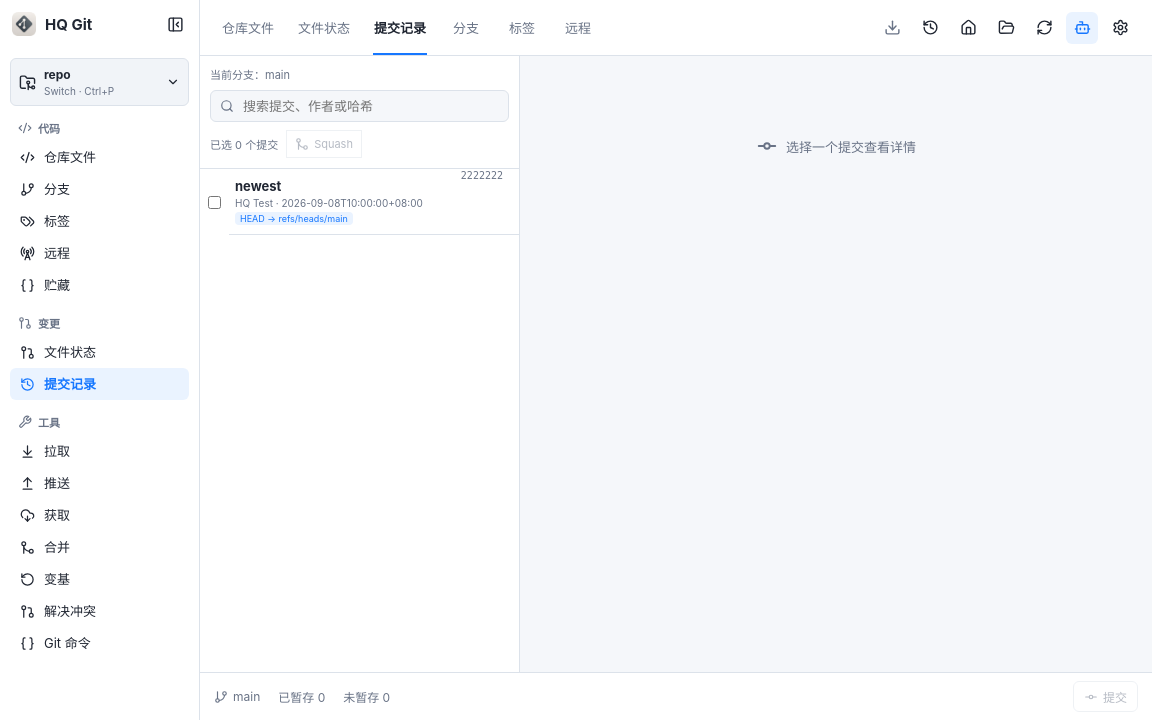
Test: history workbench › offers a local Cherry-pick target and return-after-success choice
What coordinates should you click on to do the following:
click the button that starts with "newest"
I would click on:
 (374, 202)
Its box is [229,169,519,235].
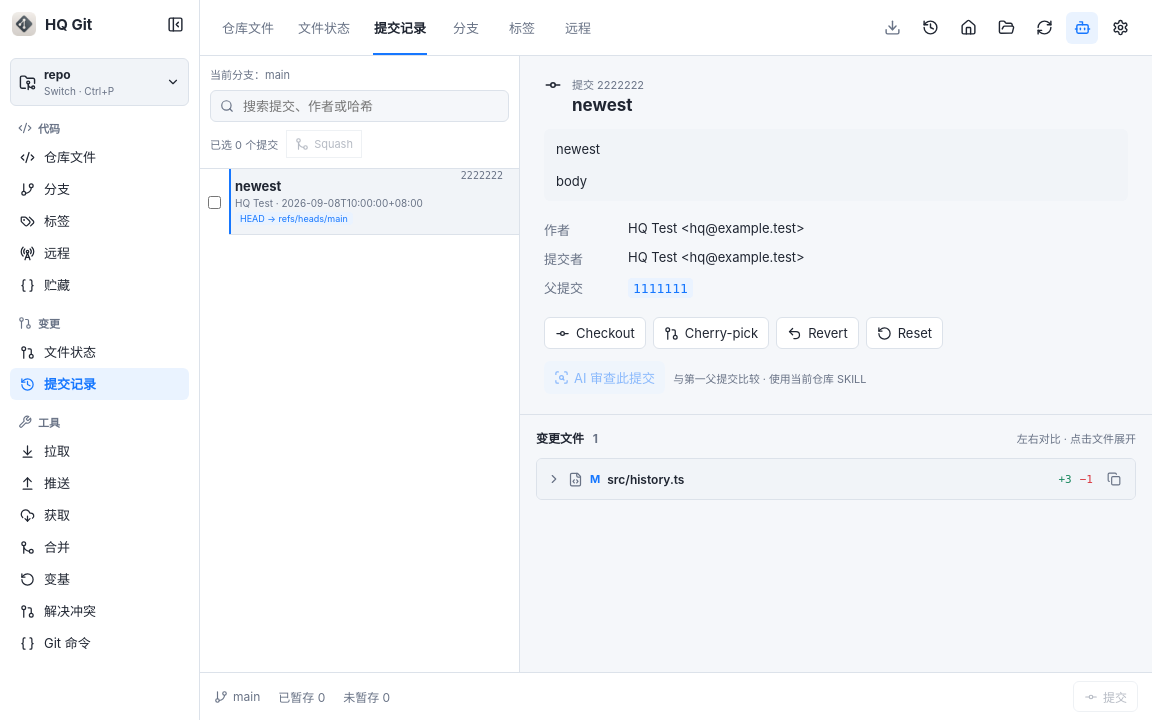
What coordinates should you click on to do the following:
click the button with aria-label "Cherry-pick 提交 2222222"
I would click on:
 (711, 333)
Its box is [653,317,769,349].
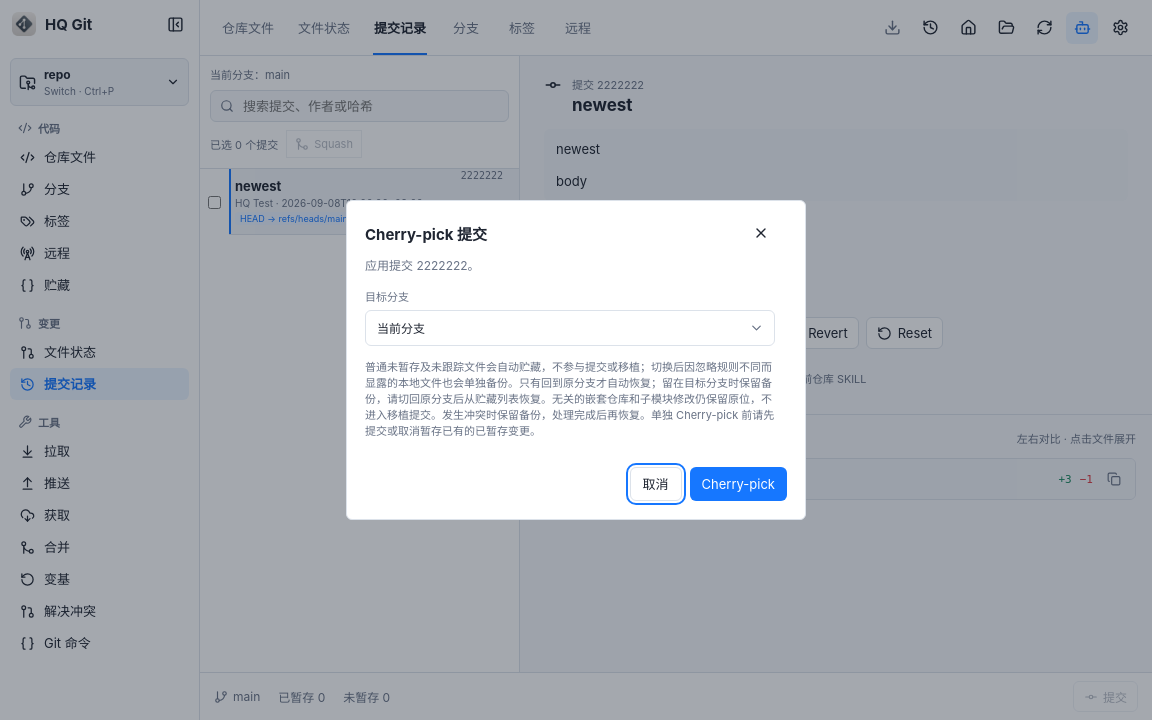
Check: the dropdown named "Cherry-pick 目标分支" reads "当前分支"
What coordinates should you click on to do the following:
click the dropdown named "Cherry-pick 目标分支"
I would click on:
 (401, 329)
Its box is [365,310,775,346].
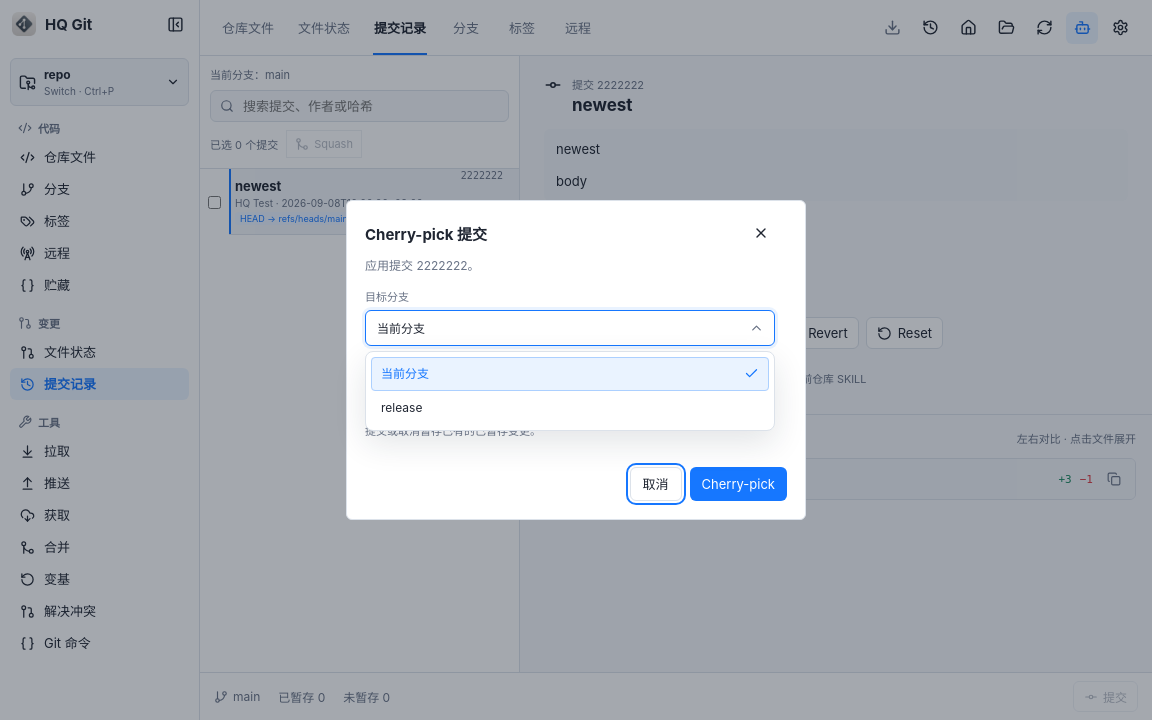
What coordinates should you click on to do the following:
click the option "release"
I would click on:
 (402, 407)
Its box is [381,400,422,415].
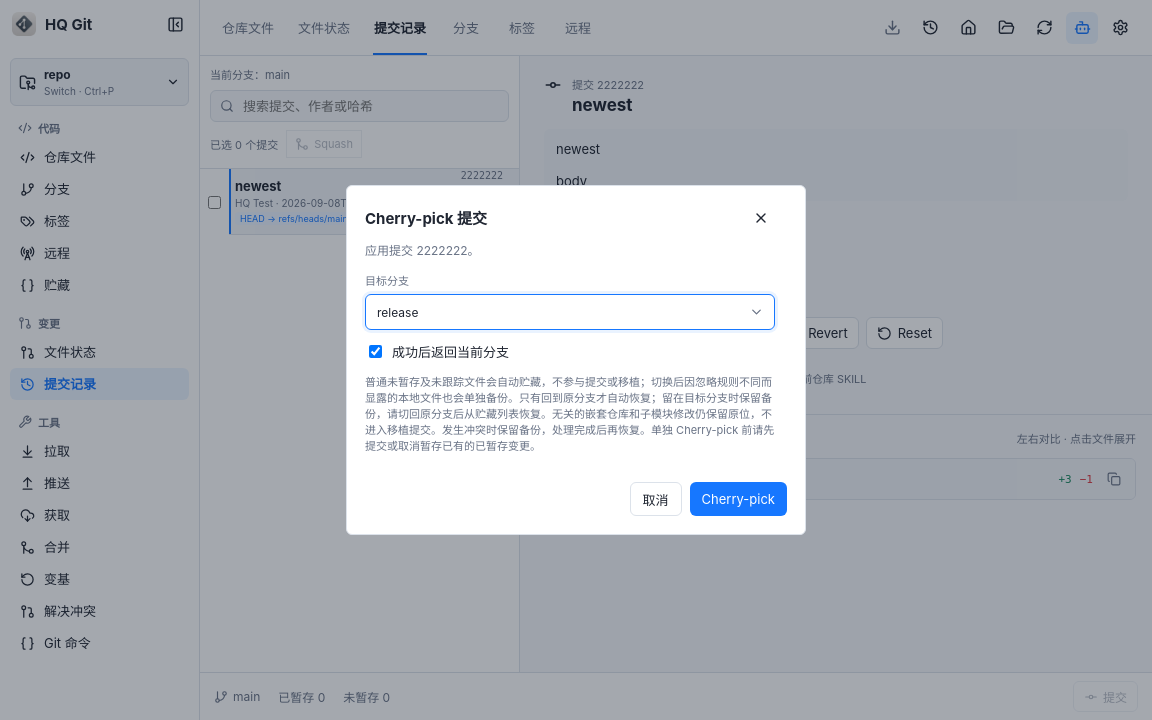
Check: the dropdown named "Cherry-pick 目标分支" reads "release", box [365,294,775,330]
Check: the checkbox labelled "成功后返回当前分支" is checked, box [369,345,382,358]
